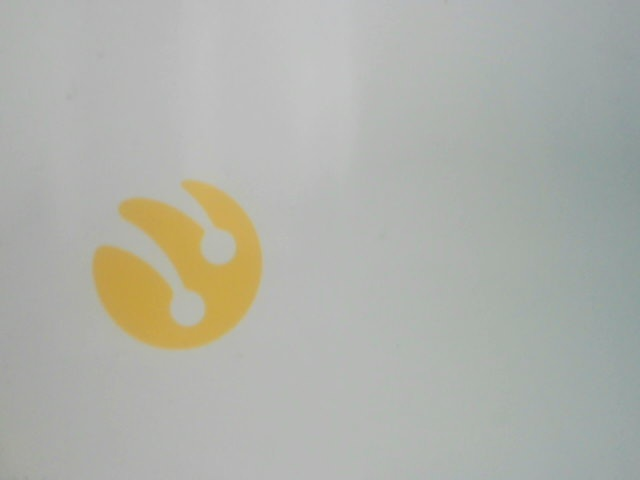AV_H3600Yellow: (70, 170, 293, 360)
